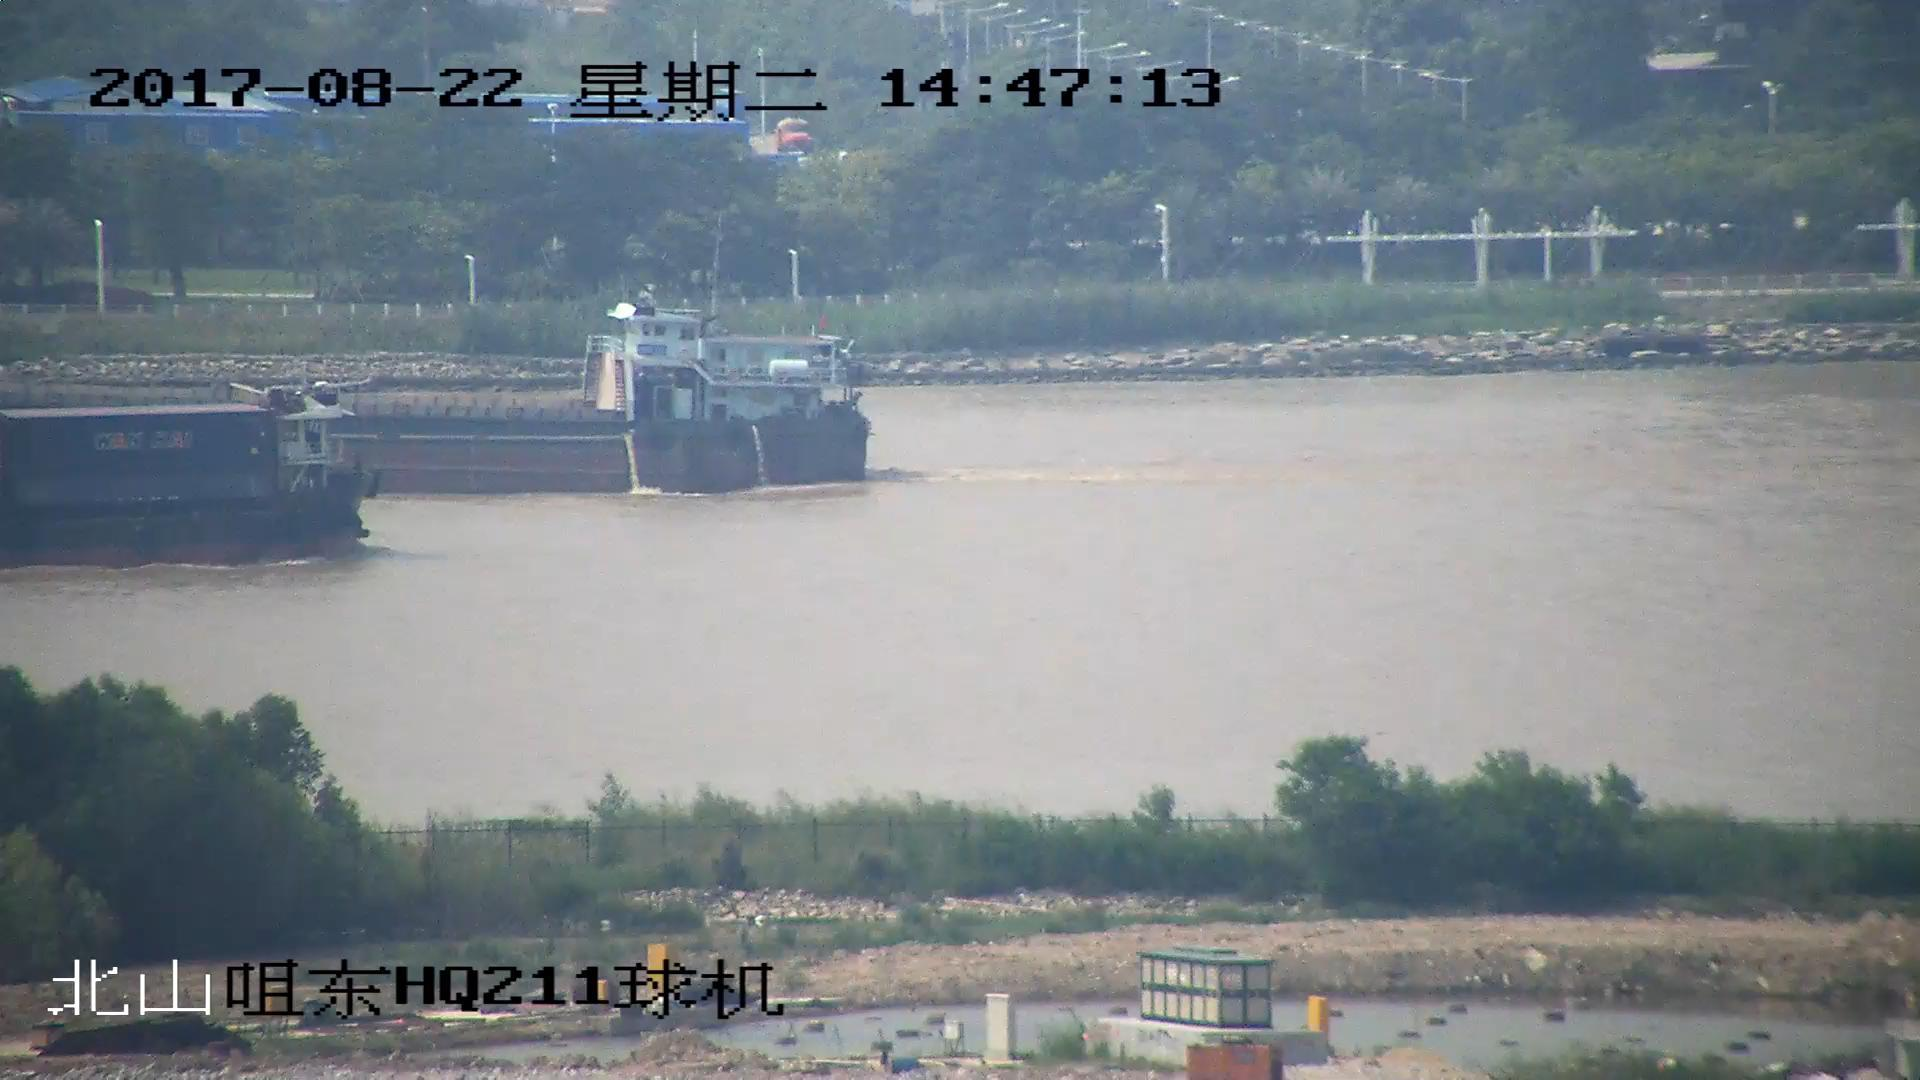Ship: (3, 297, 884, 498), (3, 378, 382, 564)
